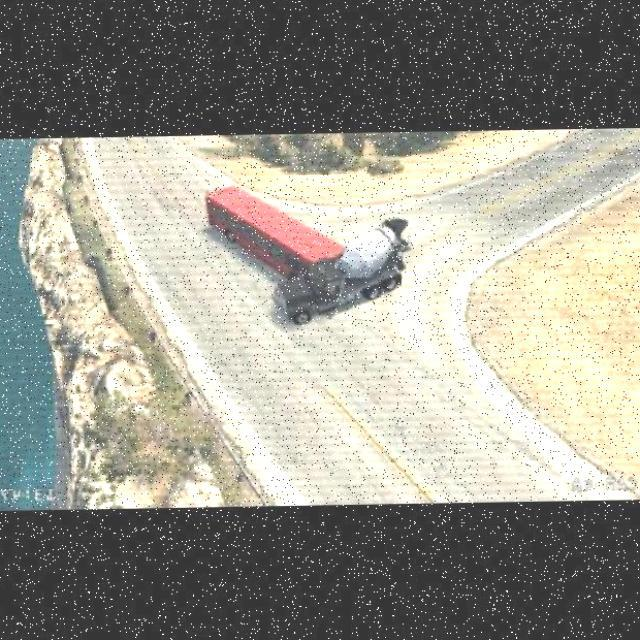accident: (247, 209, 414, 328)
